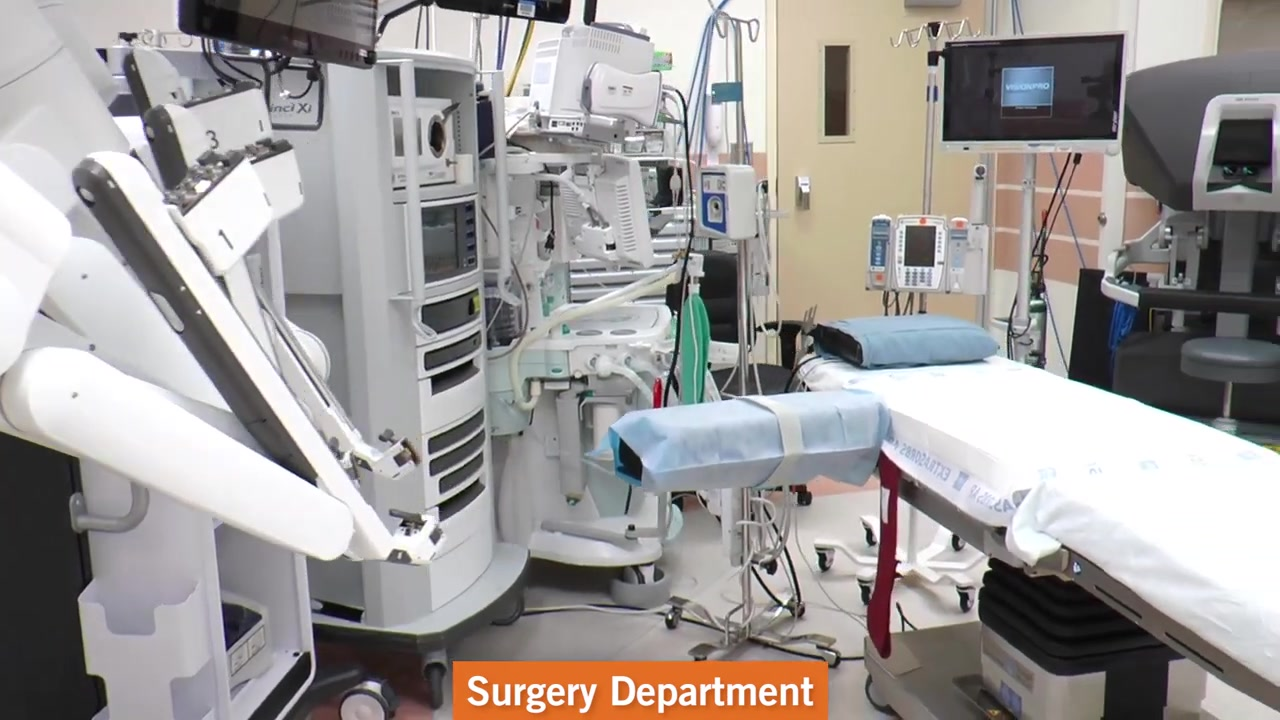bedside_monitor: (940, 33, 1124, 153)
chair: (1182, 337, 1280, 442)
handle: (794, 175, 810, 216)
infusion_pump: (866, 217, 987, 296), (700, 161, 757, 240)
iv_pole: (709, 11, 765, 641), (890, 17, 982, 214)
operating_bed: (613, 319, 1280, 720)
ventilator: (484, 132, 686, 561)
